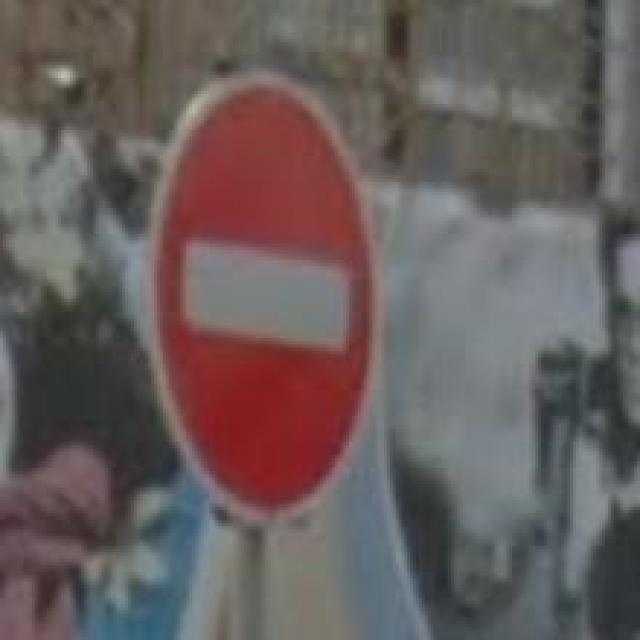traffic_sign: (148, 71, 387, 526)
